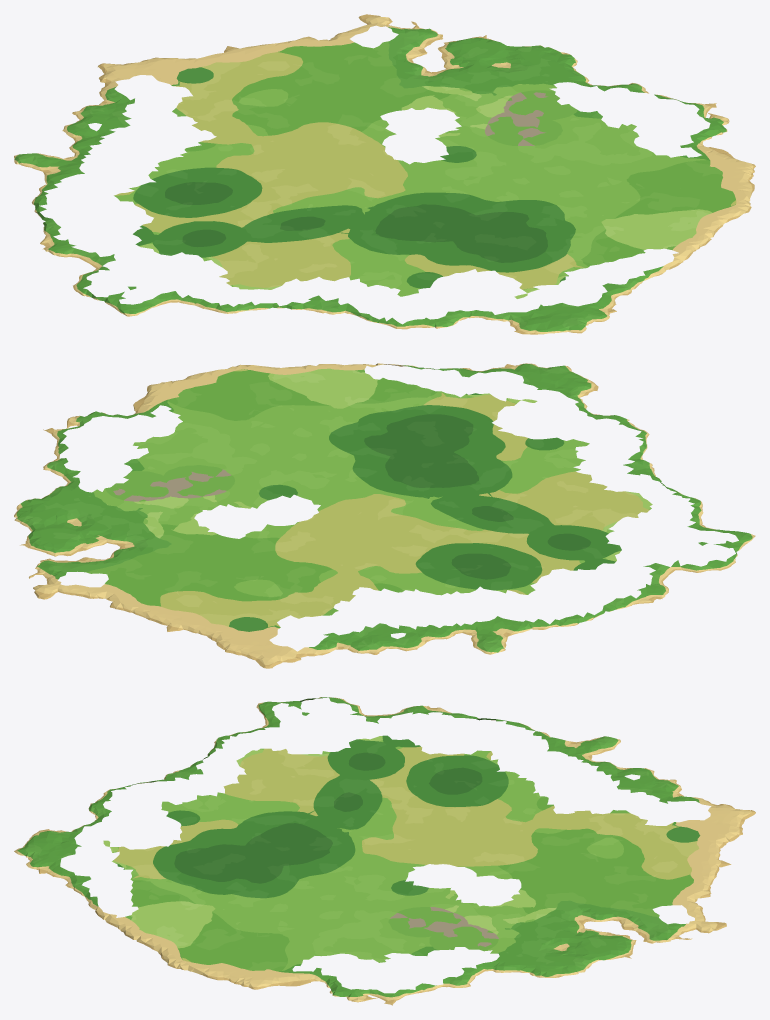
File: Isl-flat1-Ground.fbx
3 views of the same model, one above another, from view 1: azimuth 30°, elevation 25°; view 2: azimuth 150°, elevation 25°; view 3: azimuth 270°, elevation 25° (orthographic). The views are drawn at different scales.
Parts seen in each view (by area): view 1: Isl-flat1-Ground-c22, Isl-flat1-Ground-c21, Isl-flat1-Ground-c12, Isl-flat1-Ground-c11; view 2: Isl-flat1-Ground-c22, Isl-flat1-Ground-c21, Isl-flat1-Ground-c12, Isl-flat1-Ground-c11; view 3: Isl-flat1-Ground-c22, Isl-flat1-Ground-c21, Isl-flat1-Ground-c12, Isl-flat1-Ground-c11.
Part boxes in pixels (<box>): Isl-flat1-Ground-c22: <box>210,14,716,189</box>; Isl-flat1-Ground-c21: <box>393,114,755,332</box>; Isl-flat1-Ground-c12: <box>14,55,392,265</box>; Isl-flat1-Ground-c11: <box>73,190,581,334</box>; Isl-flat1-Ground-c22: <box>14,425,379,633</box>; Isl-flat1-Ground-c21: <box>67,363,563,498</box>; Isl-flat1-Ground-c12: <box>198,498,671,663</box>; Isl-flat1-Ground-c11: <box>380,365,755,572</box>; Isl-flat1-Ground-c22: <box>369,848,731,1005</box>; Isl-flat1-Ground-c21: <box>14,848,374,1002</box>; Isl-flat1-Ground-c12: <box>370,705,743,852</box>; Isl-flat1-Ground-c11: <box>14,697,373,851</box>.
Bounding box in the file's own units: 104 × 0.4898 × 105.
